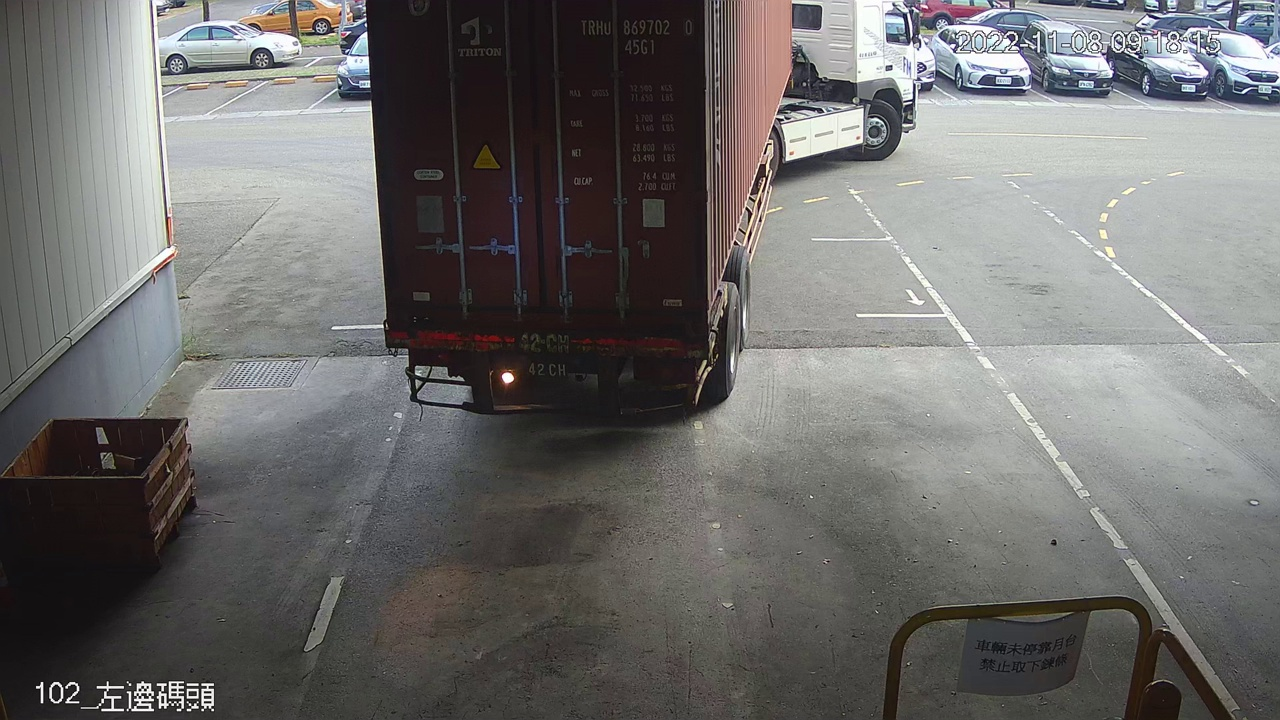container: (574, 11, 698, 63)
